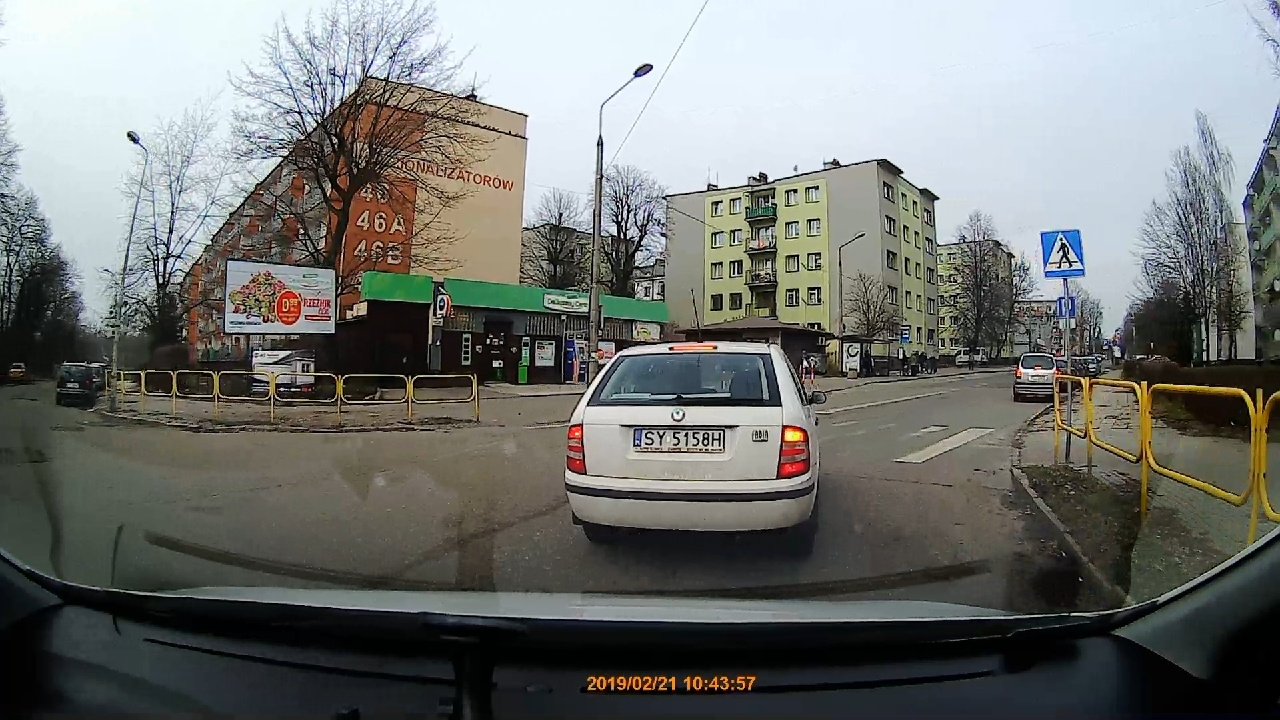D6: (1037, 222, 1089, 279)
